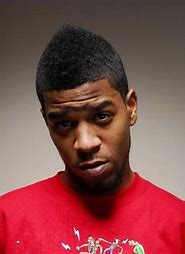person: (35, 23, 138, 193)
